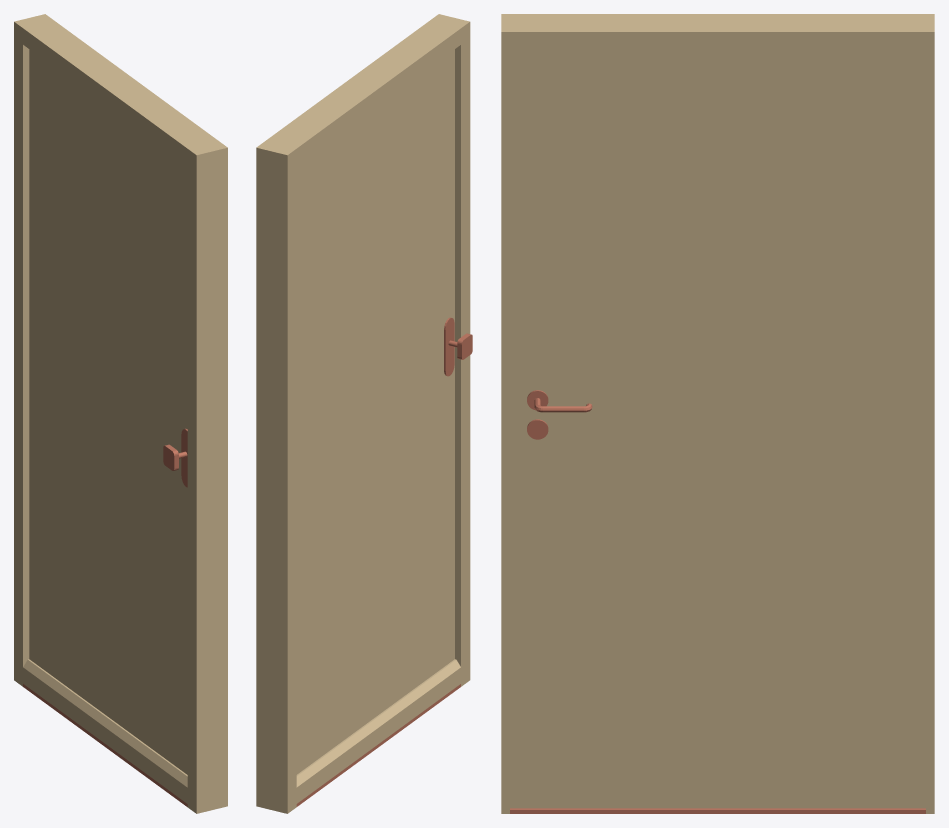
File: fzk-haus-door-1.glb
The picture shows the model from 3 angles, left to right: view 1: azimuth 30°, elevation 25°; view 2: azimuth 150°, elevation 25°; view 3: azimuth 270°, elevation 25°; orthographic projection. The views are drawn at different scales.
Visible parts, largest first — view 1: opening; view 2: opening; view 3: opening.
Part boxes in pixels (bbox=[...]): opening: bbox=[14, 14, 227, 813]; opening: bbox=[256, 14, 472, 813]; opening: bbox=[501, 14, 934, 813].
Bounding box in the file's own units: 0.19 × 2.01 × 1.01.
